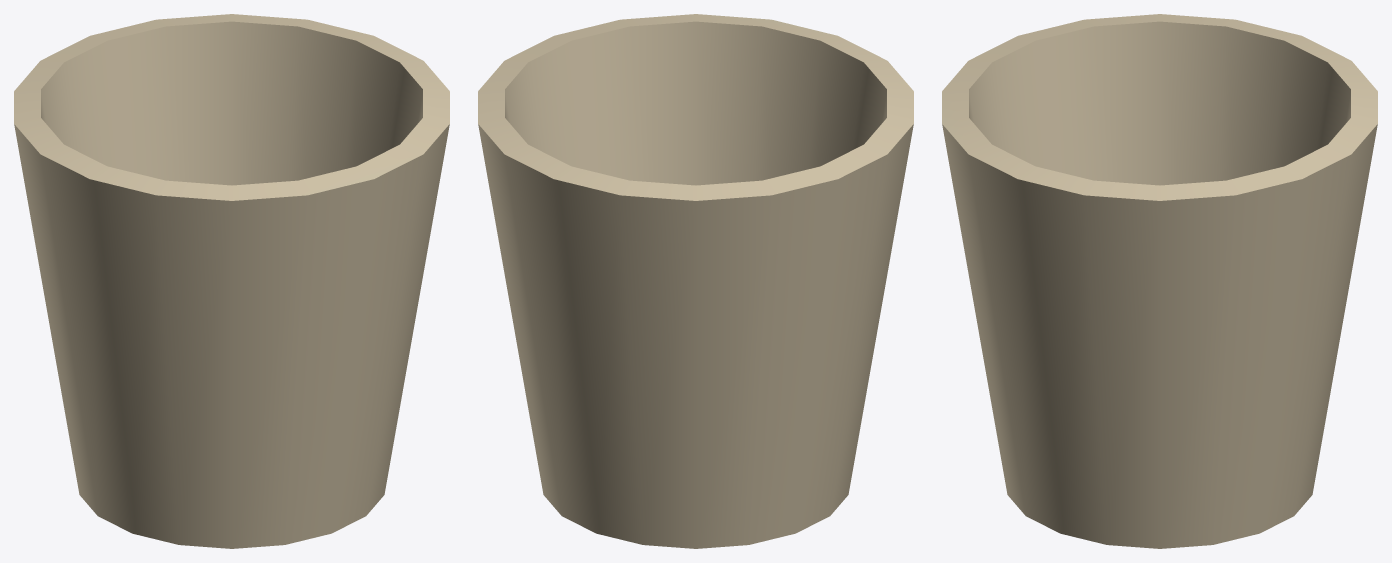
File: Glass.FBX
3 renders of one model, left to right at view 1: azimuth 30°, elevation 25°; view 2: azimuth 150°, elevation 25°; view 3: azimuth 270°, elevation 25°, orthographic.
Parts seen in each view (by area): view 1: Glass; view 2: Glass; view 3: Glass.
Boxes of the visible parts, box(x1,y1,x2,y2) form: Glass: box(14, 14, 449, 548); Glass: box(478, 14, 913, 548); Glass: box(942, 14, 1377, 548).
Size of the model in its own units: 16 by 15.16 by 15.76.
